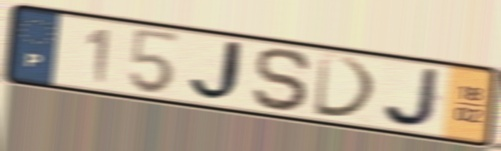1: (84, 27, 111, 84)
5: (126, 26, 183, 98)
D: (311, 51, 381, 121)
J: (186, 38, 252, 104), (380, 65, 444, 130)
S: (250, 45, 315, 115)
